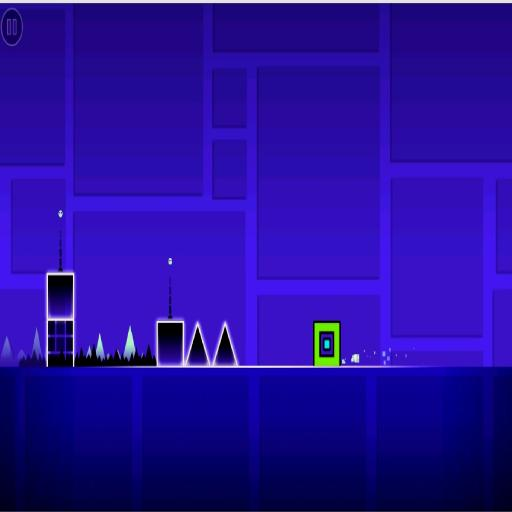block: (45, 270, 76, 366), (158, 321, 184, 365)
player: (314, 322, 340, 365)
spike: (213, 323, 238, 365), (187, 324, 210, 365), (124, 326, 135, 359), (1, 336, 14, 358), (33, 328, 42, 357), (97, 334, 104, 359), (17, 350, 25, 360), (87, 347, 92, 356)
